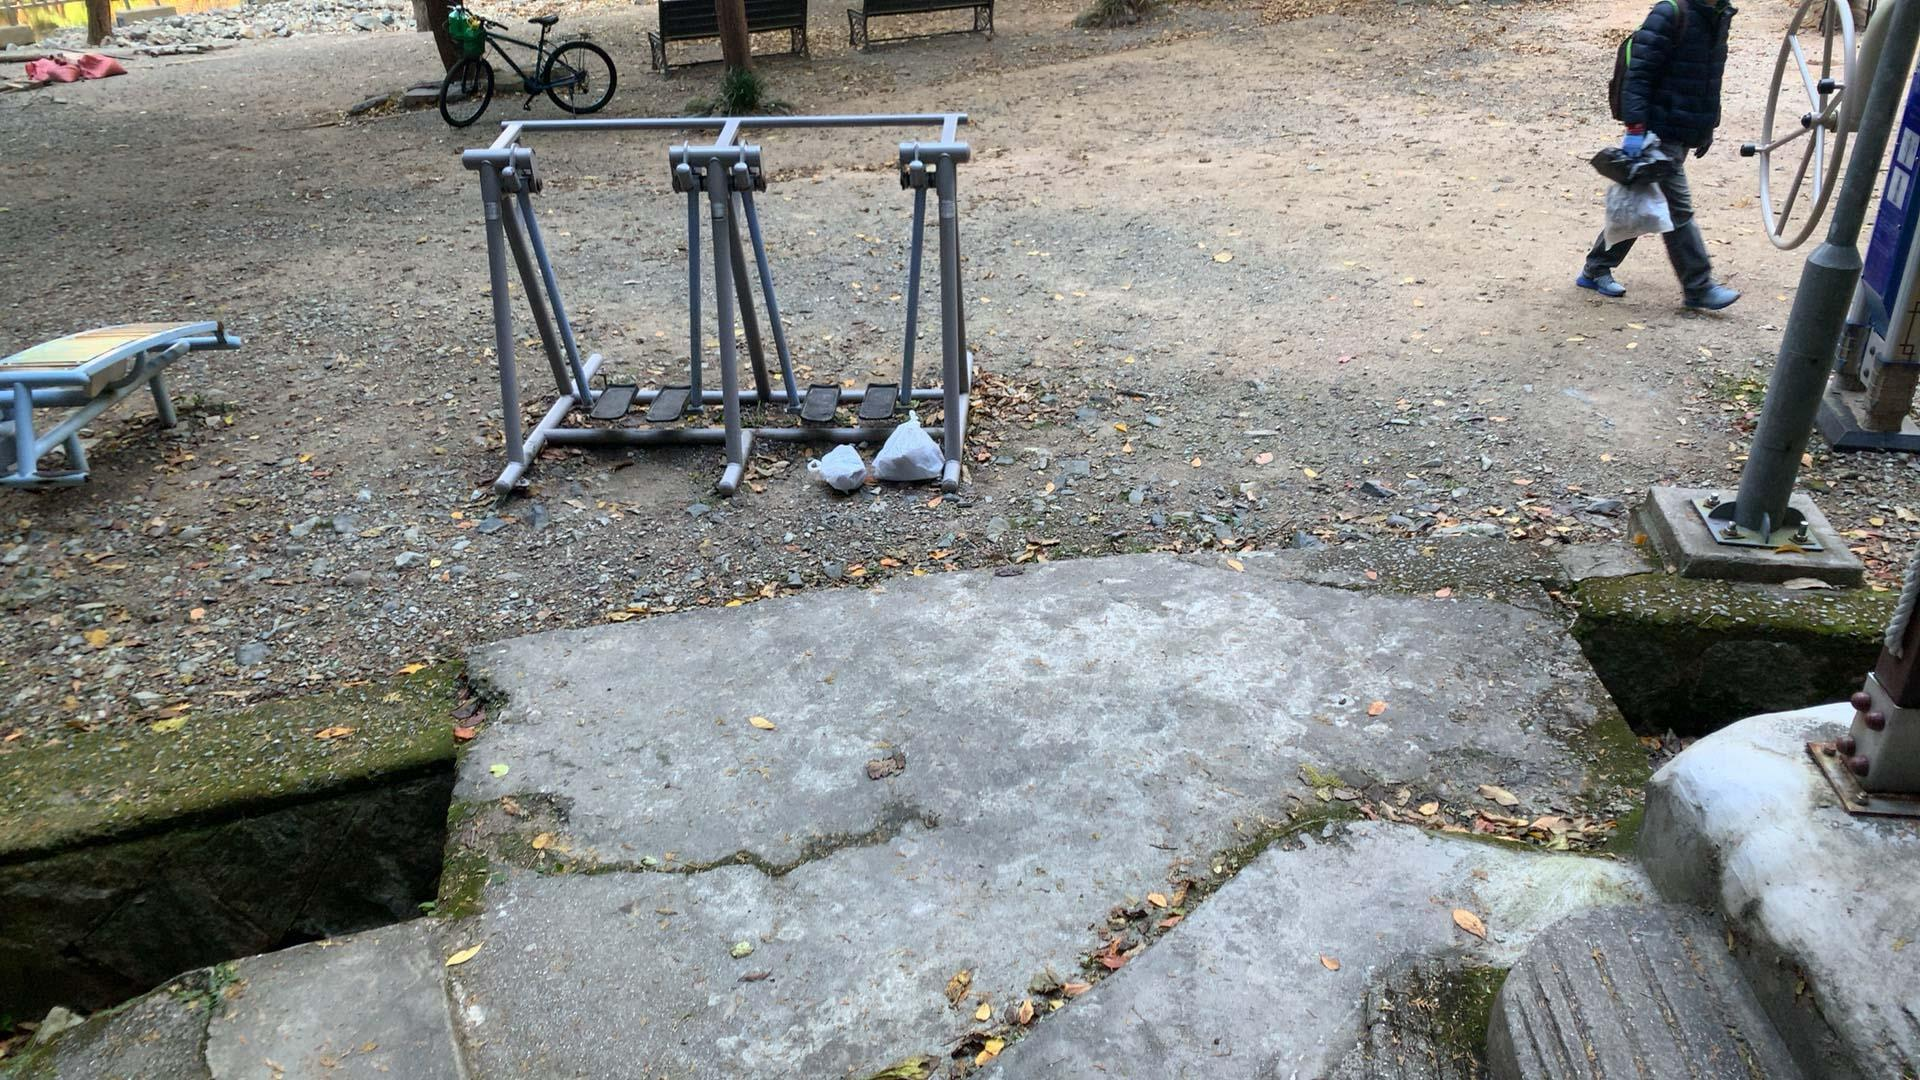white_bag: (866, 406, 949, 483), (800, 438, 869, 496)
